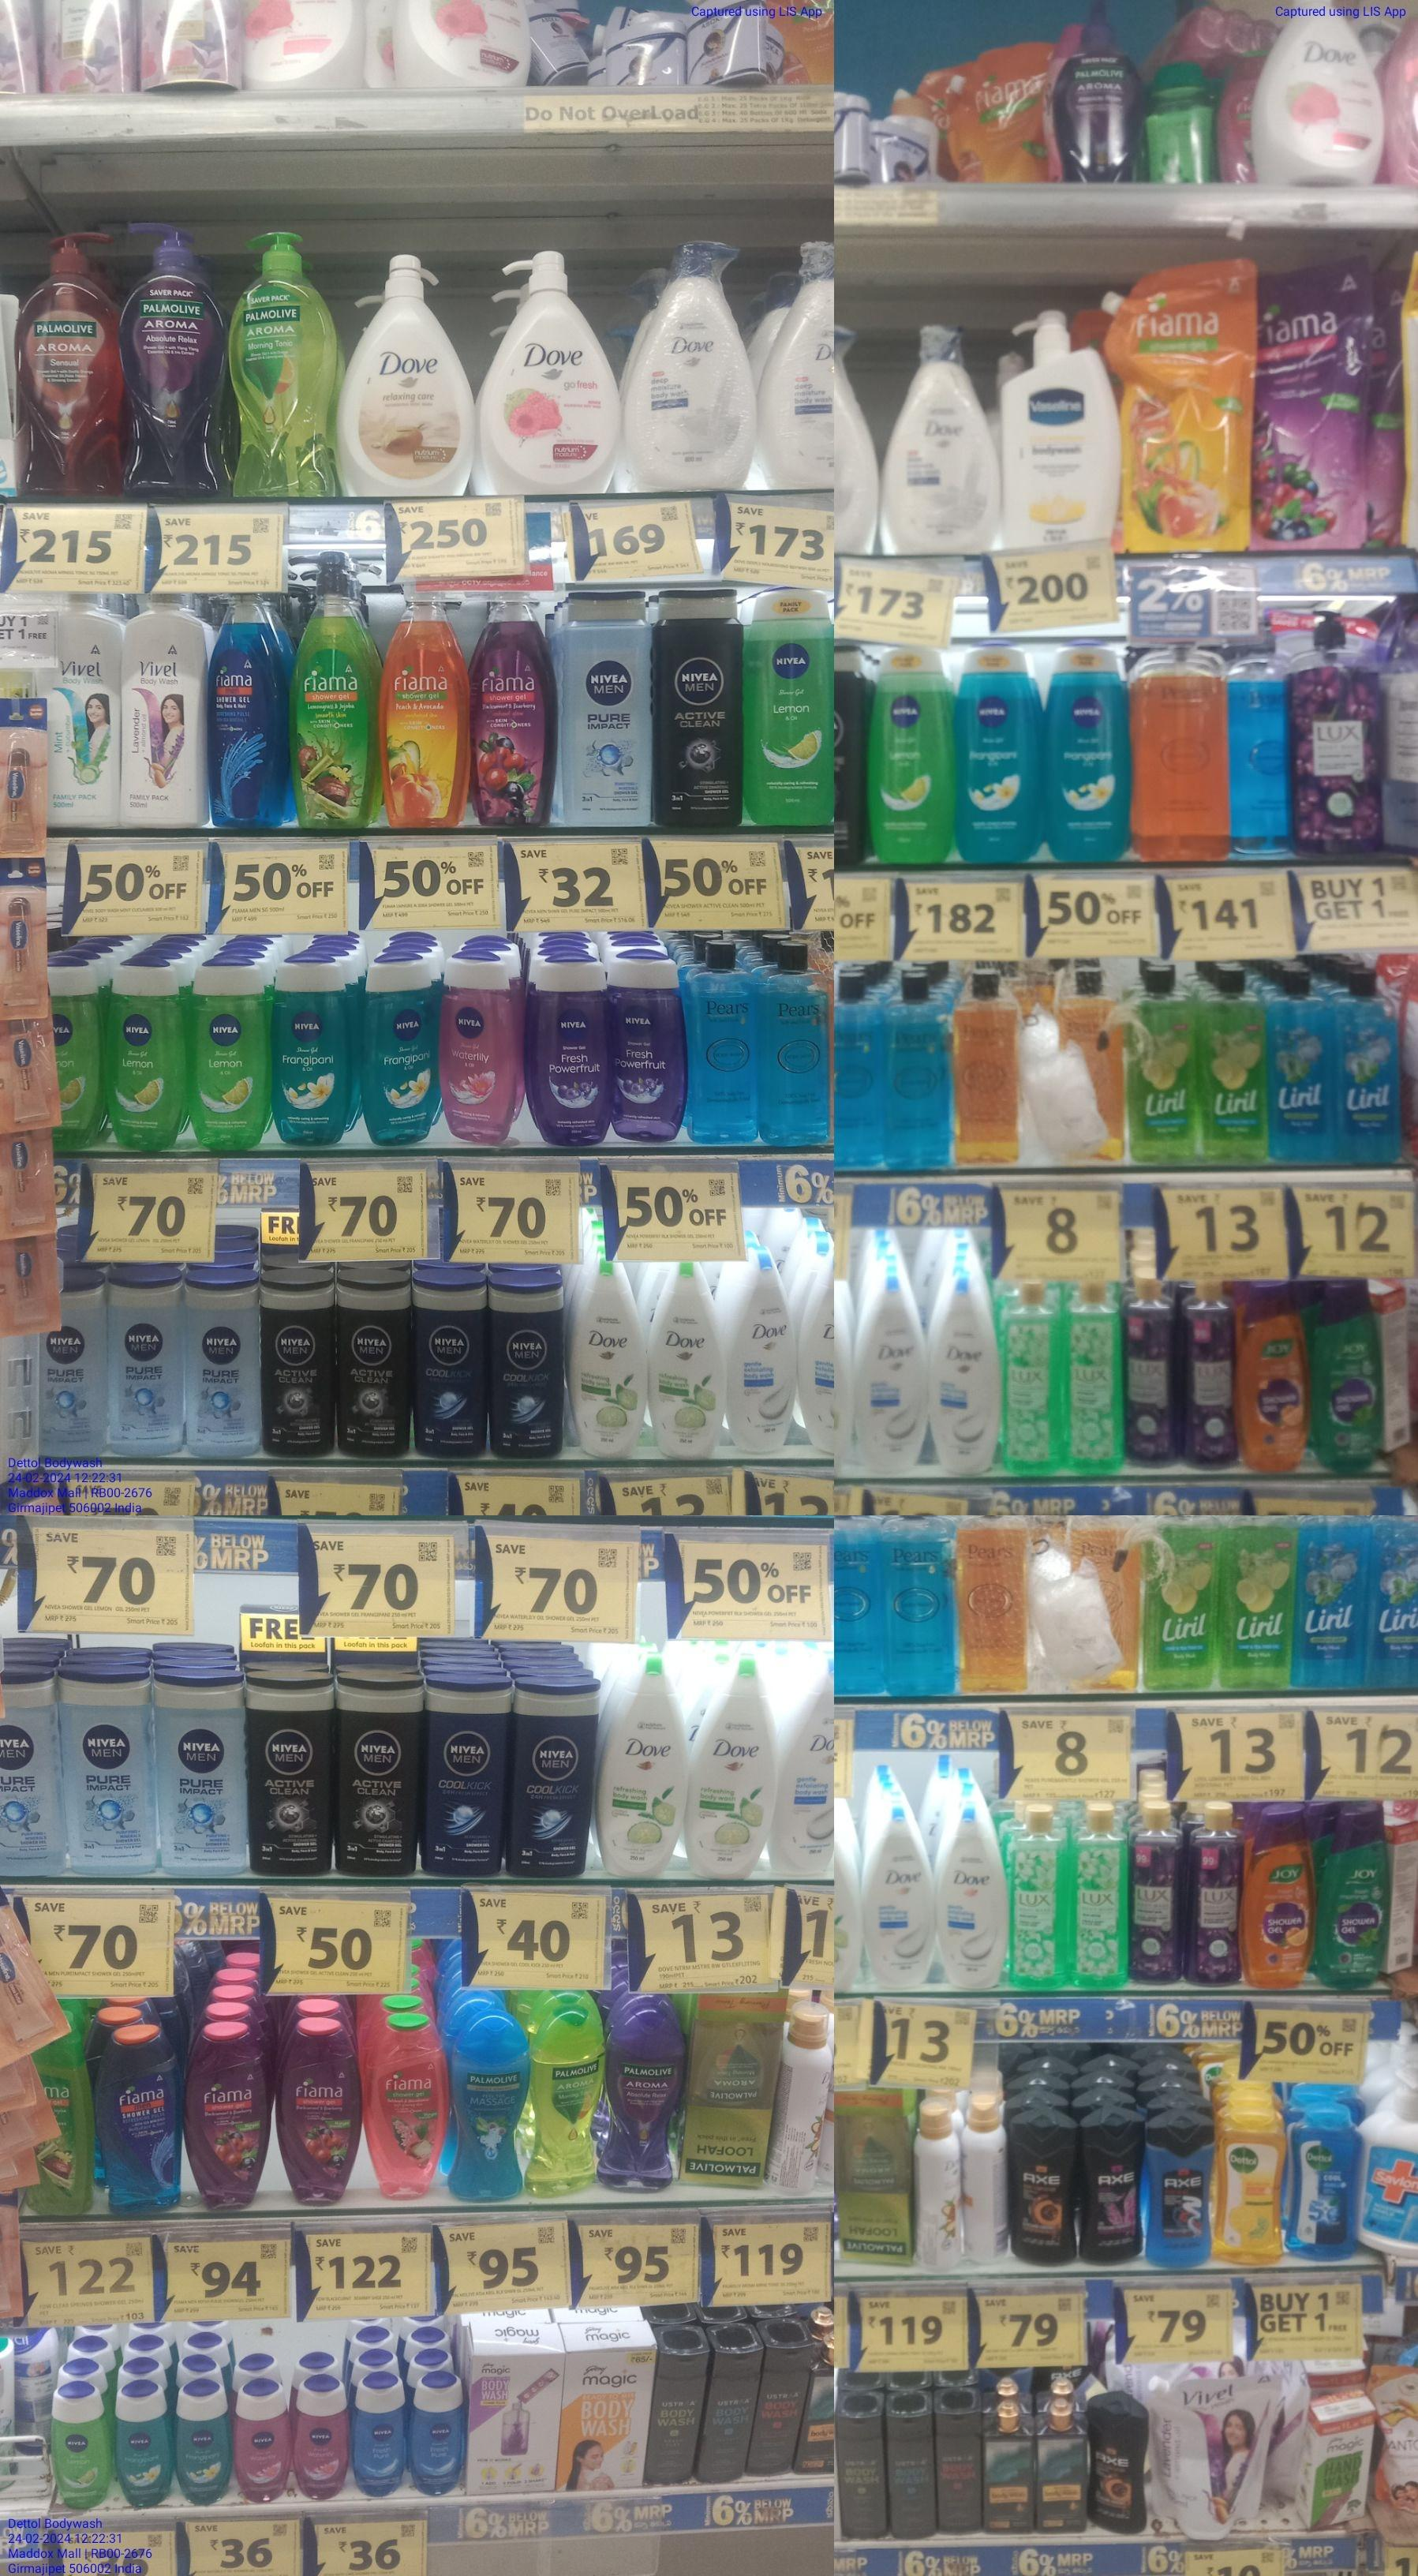Dettol_Bodywash_Cool: (1299, 2108, 1360, 2263)
Dettol_Bodywash_Refresh: (597, 1661, 683, 1876), (690, 1659, 774, 1876), (1217, 2111, 1287, 2267)
Dove_Gentle_Exfoliating_Body_Wash_250ML: (728, 1254, 798, 1457), (863, 1808, 938, 1991), (933, 1278, 997, 1476), (859, 1280, 926, 1472), (943, 1809, 1001, 1991)
Dove_Refreshing_Body_Wash_250ML: (573, 1263, 648, 1455), (655, 1263, 721, 1455)
Fiama_Shower_Gel_Patchouli_and_Macadamia_250ML: (372, 2022, 447, 2201)
Joy_Shower_Gel_Mandarin_and_Lemongrass_250ML: (1242, 1278, 1308, 1472), (1249, 1806, 1311, 1986)
Joy_Shower_Gel_Mint_and_Eucalyptus_250ML: (1315, 1278, 1392, 1474), (1325, 1811, 1385, 1986)
Lux_Black_Orchid_Scent_and_Juniper_Oil_Body_Wash_245ML: (1125, 1277, 1181, 1460), (1128, 1804, 1184, 1982), (1184, 1278, 1236, 1467), (1193, 1808, 1245, 1986)
Lux_Body_Wash_Skin_Detox_Freesia_Scent_and_Alove_Vera_245ML: (1002, 1284, 1062, 1472), (1006, 1809, 1062, 1989), (1074, 1808, 1128, 1986), (1069, 1284, 1119, 1471)
Nivea_Shower_Gel_Frangipani_and_Oil_250ML: (957, 641, 1039, 864), (1048, 643, 1128, 863)
Nivea_Shower_Gel_Lemon_and_Oil_250ML: (744, 589, 835, 826), (870, 650, 952, 864)
Palmolive_Aroma_Moments_Feel_The_Massage_Shower_Gel_250ML: (458, 2021, 527, 2208)
Palmolive_Aroma_Morning_Tonic_Shower_Gel_250ML: (534, 2014, 599, 2192)
Palmolive_Aroma_Relax_250ML: (608, 2010, 679, 2192)
